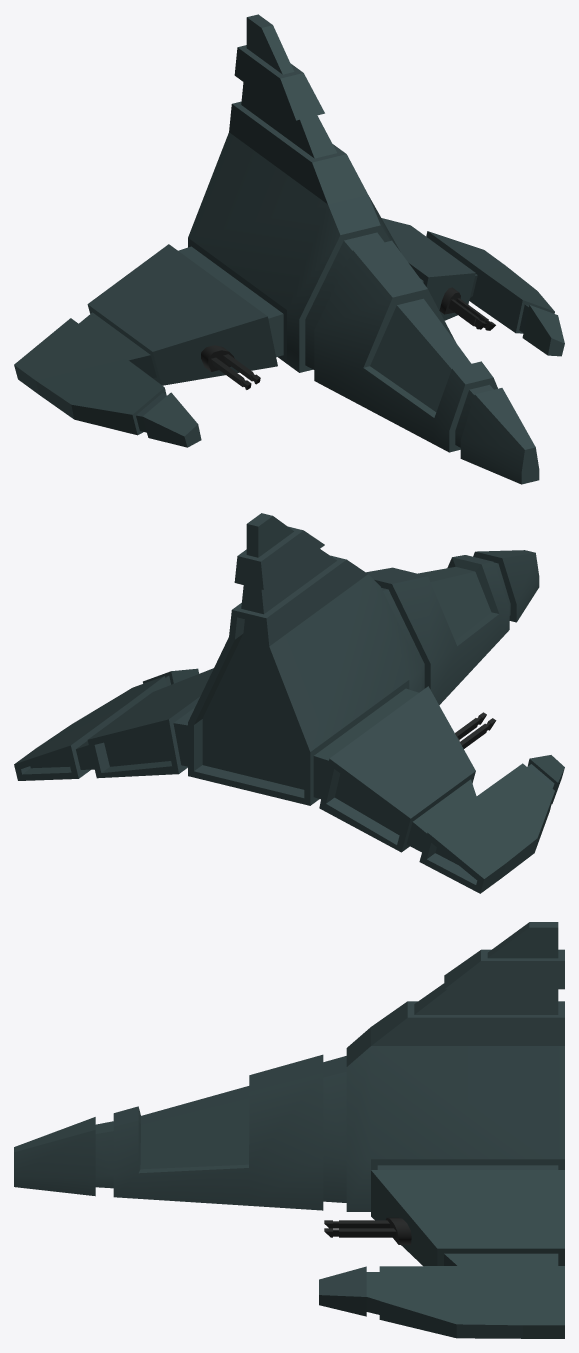
3 views of the same model, one above another, from view 1: azimuth 30°, elevation 25°; view 2: azimuth 150°, elevation 25°; view 3: azimuth 270°, elevation 25° (orthographic). The views are drawn at different scales.
Parts seen in each view (by area): view 1: Hull, GunPoints; view 2: Hull, GunPoints; view 3: Hull, GunPoints.
Boxes of the visible parts, x1,y1,x2,y2 form: Hull: (14, 14, 564, 484); GunPoints: (201, 287, 495, 389); Hull: (14, 513, 564, 893); GunPoints: (455, 712, 496, 748); Hull: (14, 922, 564, 1338); GunPoints: (324, 1217, 411, 1244).
Size of the model in its own units: 158 by 99.52 by 164.
